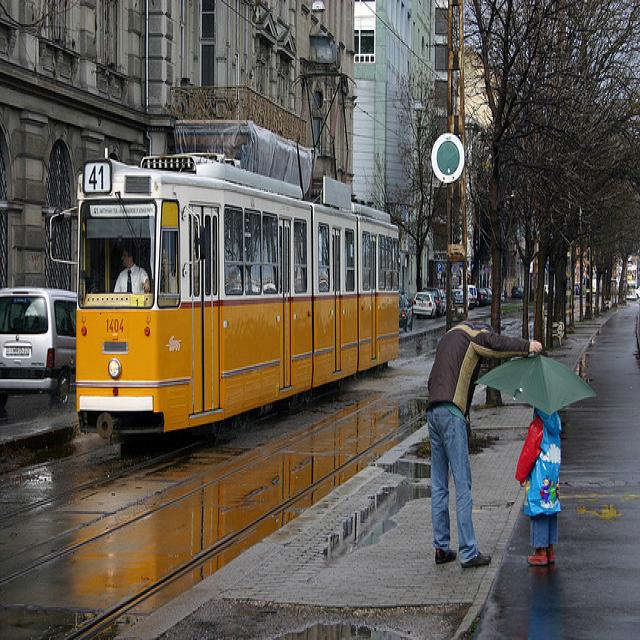Vehicle: (0, 287, 77, 411), (413, 292, 436, 319), (456, 284, 484, 306), (422, 288, 443, 317), (399, 294, 413, 334), (450, 288, 472, 308), (439, 289, 446, 313), (512, 286, 524, 300), (484, 288, 492, 303), (501, 288, 505, 300)
